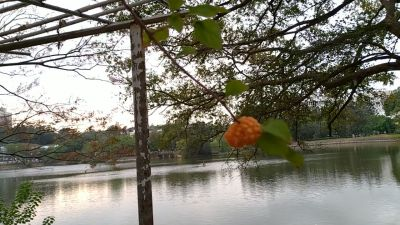eggs: (223, 115, 262, 148)
